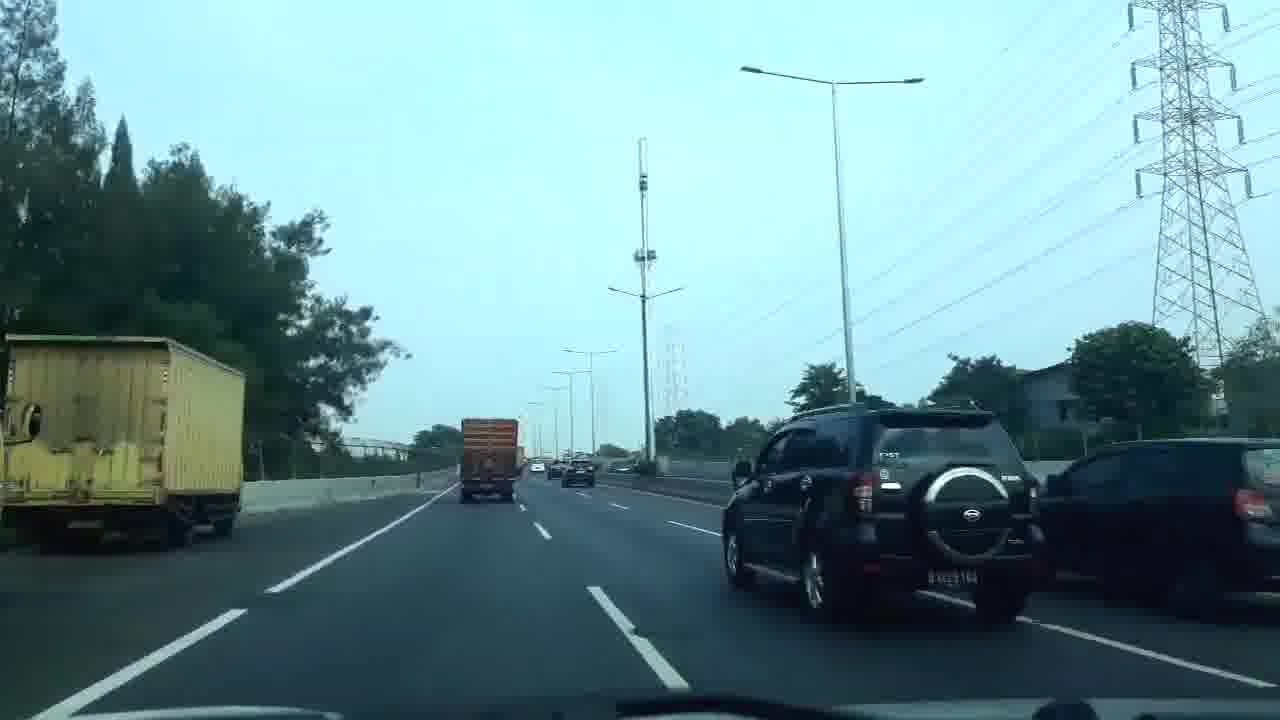plate_positive: (928, 567, 978, 585)
